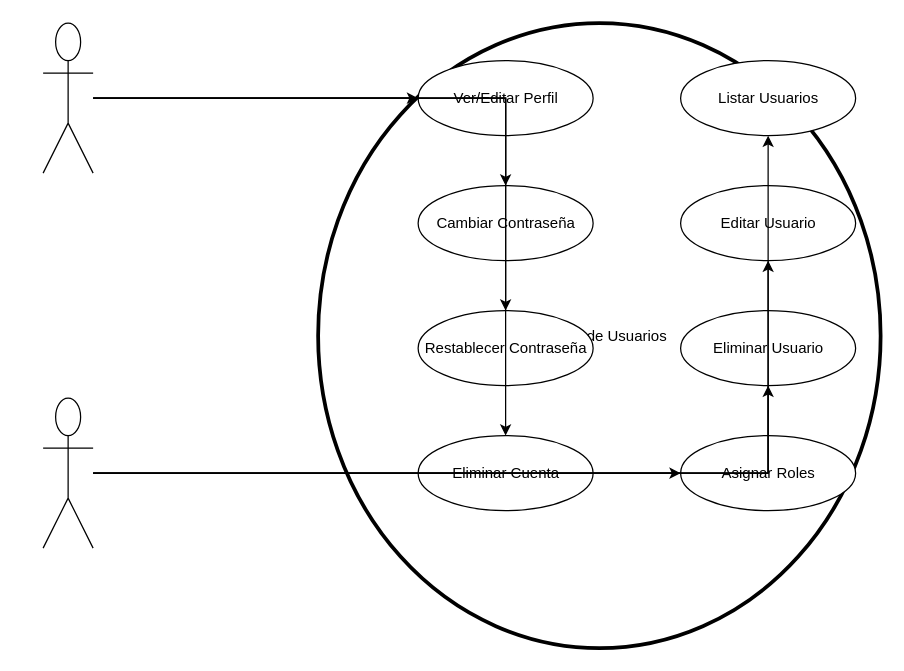
This 904x671 diagram has some shape labels left out. The centre of each missing label's shape, as x and y in pixels:
"Administrador" belongs at (x=67, y=472).
"Usuario" belongs at (x=67, y=97).
